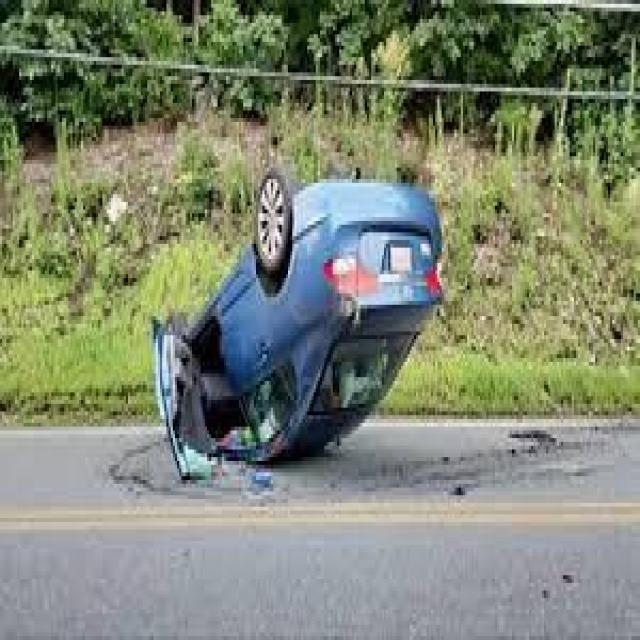severe: (144, 170, 449, 486)
